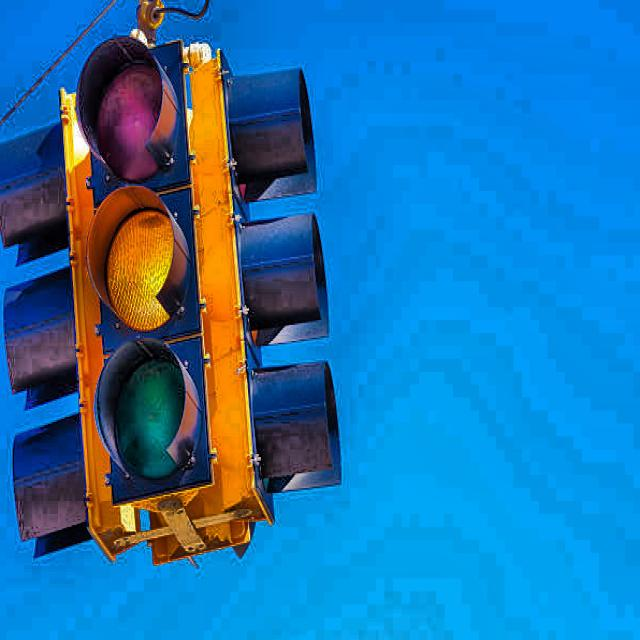yellow: (85, 26, 199, 517)
